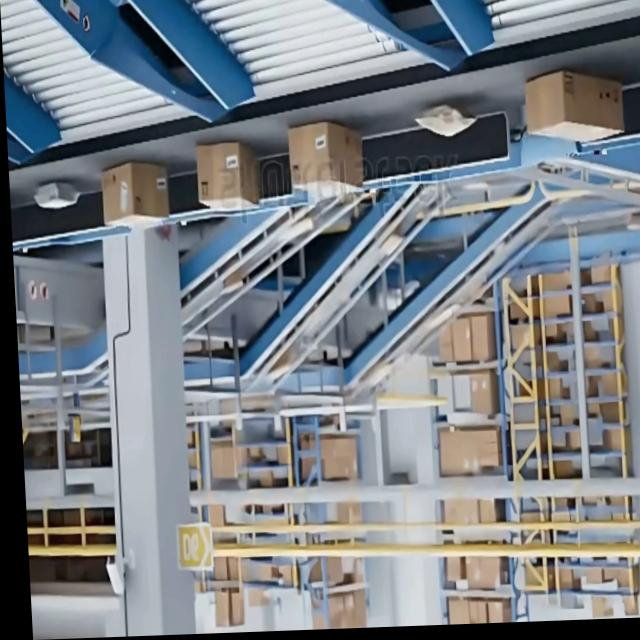product 1: (287, 120, 365, 199), (100, 160, 170, 231), (194, 141, 262, 213)
product 2: (415, 98, 479, 140)
